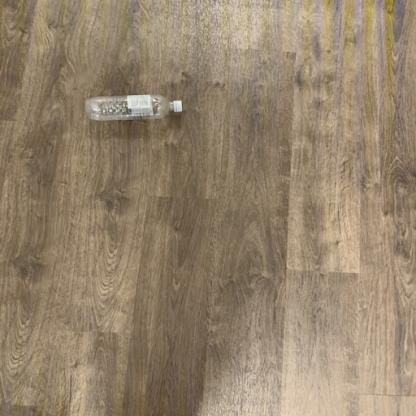trash: (82, 94, 184, 122)
